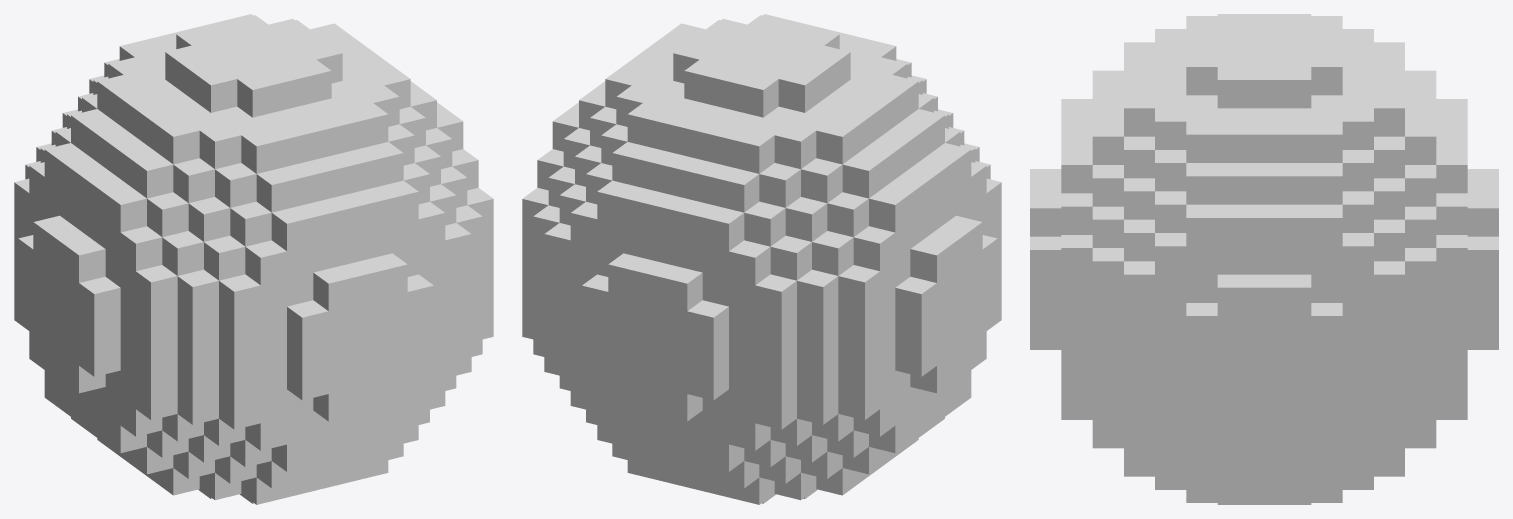
File: Table Tenis Ball.fbx
3 renders of one model, left to right at view 1: azimuth 30°, elevation 25°; view 2: azimuth 150°, elevation 25°; view 3: azimuth 270°, elevation 25°, orthographic. The views are drawn at different scales.
Parts seen in each view (by area): view 1: Untitled.001; view 2: Untitled.001; view 3: Untitled.001.
Boxes of the visible parts, box(x1,y1,x2,y2) form: Untitled.001: box(14, 14, 493, 504); Untitled.001: box(522, 14, 1001, 504); Untitled.001: box(1030, 14, 1498, 504).
Bounding box in the file's own units: 150 × 150 × 150.
